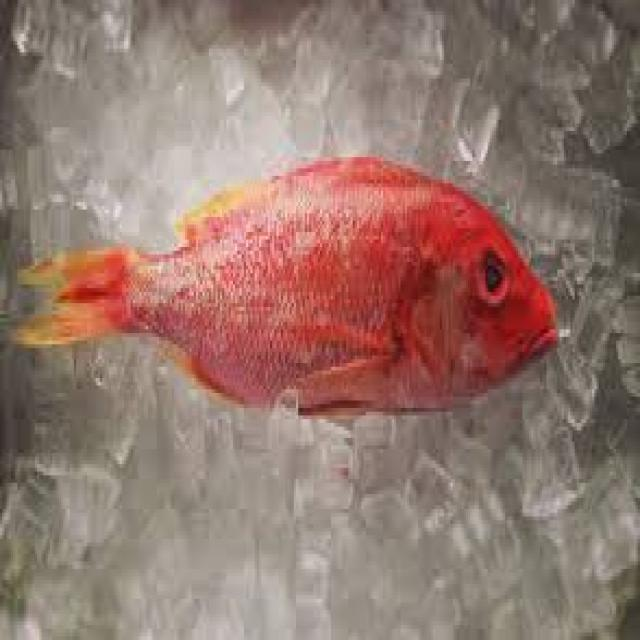northern-red-snapper: (6, 99, 568, 443)
